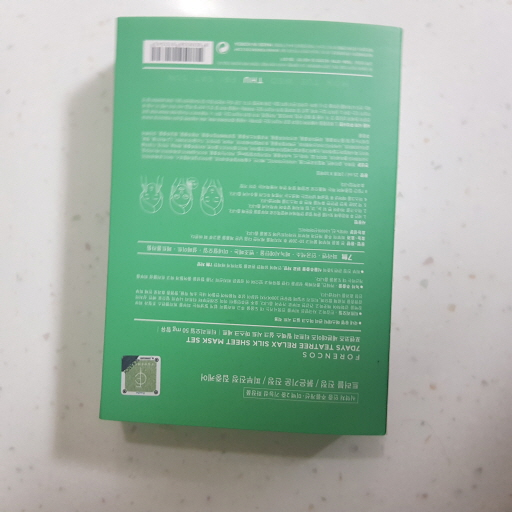Paper_0: (97, 9, 402, 441)
